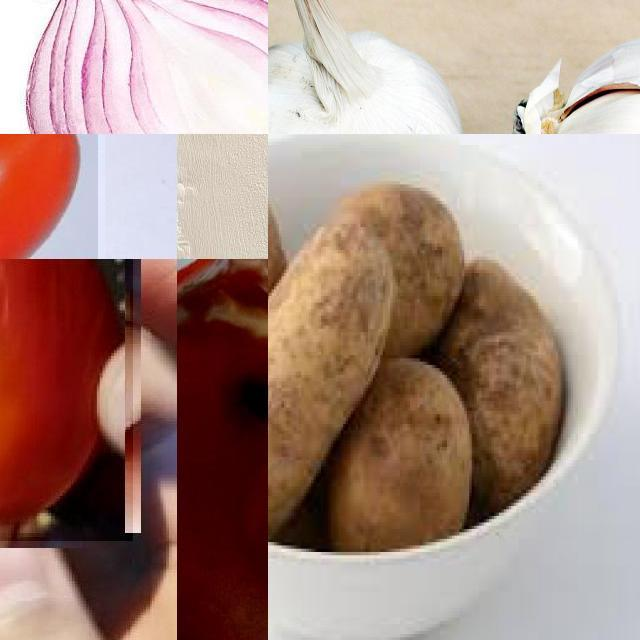garlic: (269, 1, 473, 135), (507, 32, 640, 135)
onion: (20, 1, 269, 135)
potato: (269, 222, 393, 536), (449, 257, 568, 504), (342, 361, 477, 553), (337, 184, 463, 364)
tomato: (1, 135, 99, 260)
